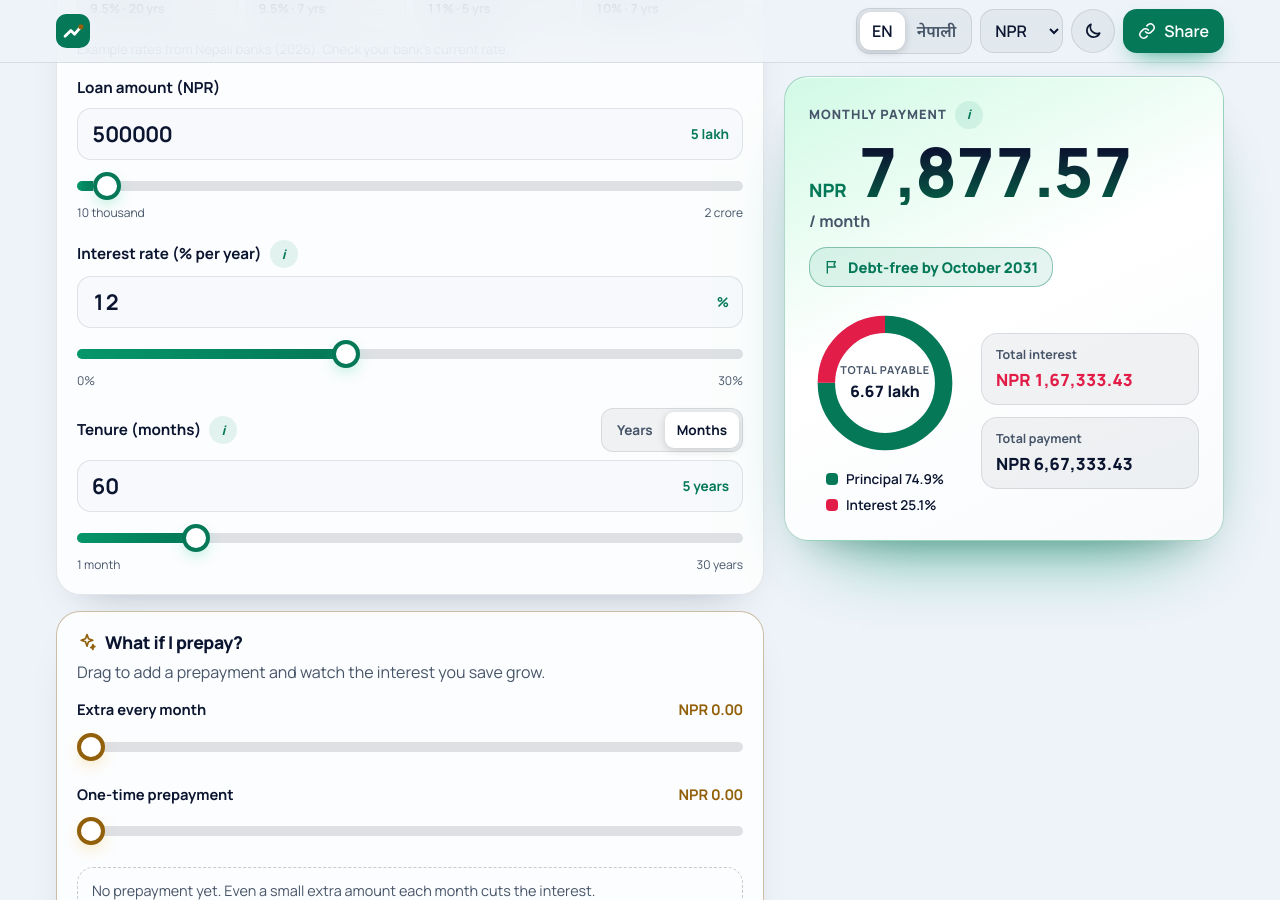
Test case: Tenure (months) number field and slider stay in sync
The width and height of the screenshot is (1280, 900).
(page scrolled)
Replace the text in the field labelled "Tenure (months)" with "120". click: [410, 486]
box: [77,460,743,512]
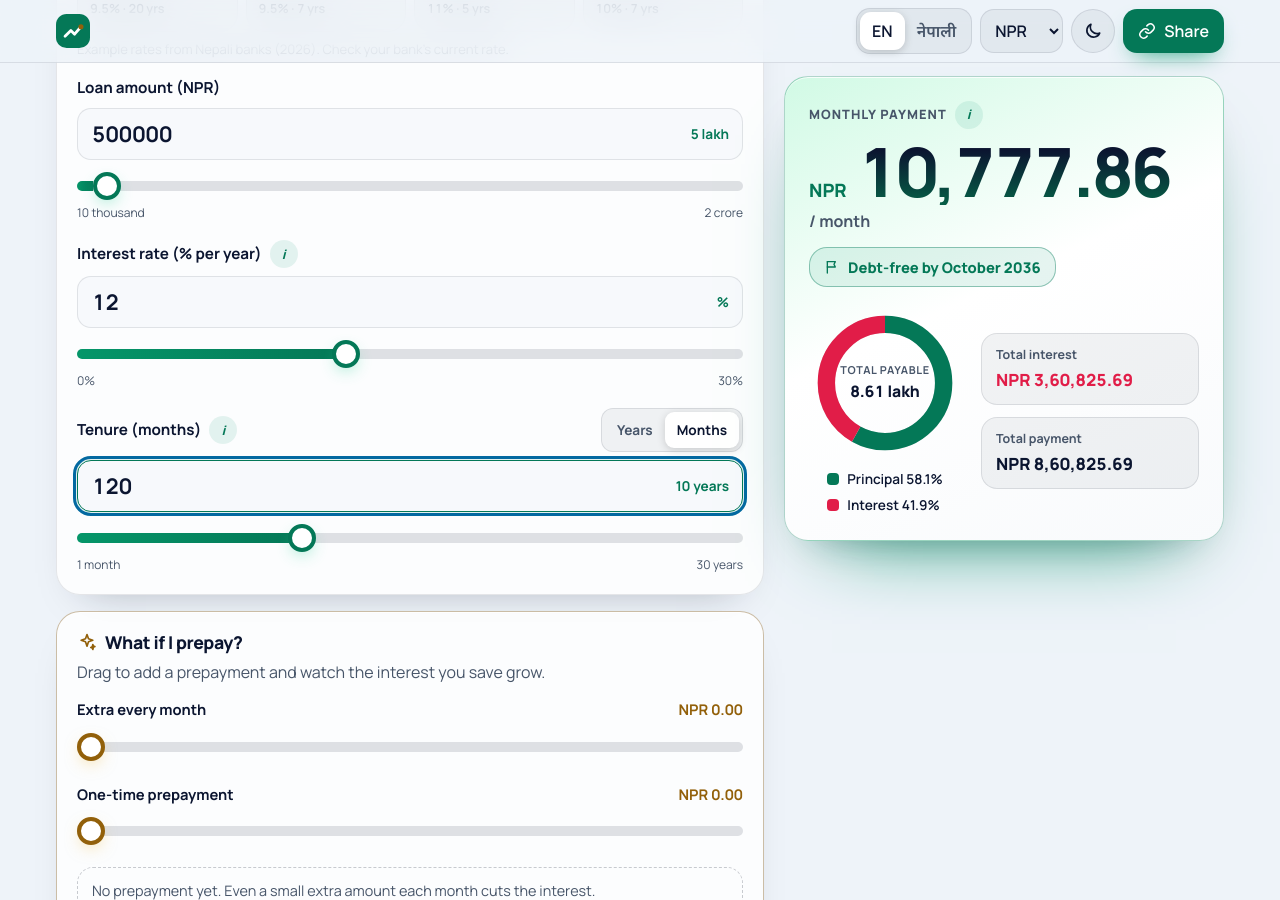
Check: the slider named "Tenure slider" holds "120"
Set the slider named "Tenure slider" to "36". click: [148, 538]
box: [77,516,743,560]
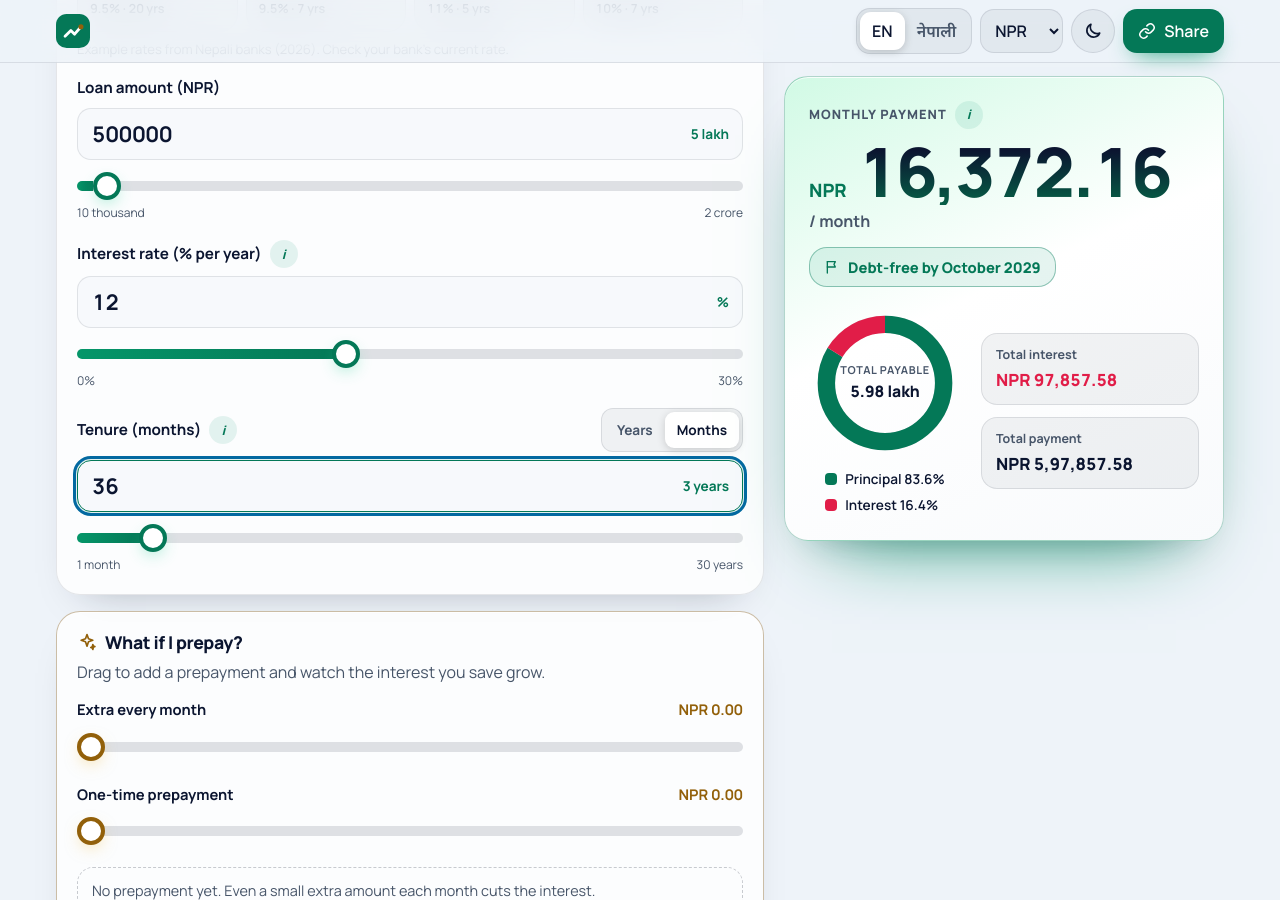
Check: the field labelled "Tenure (months)" holds "36", box [77,460,743,512]
